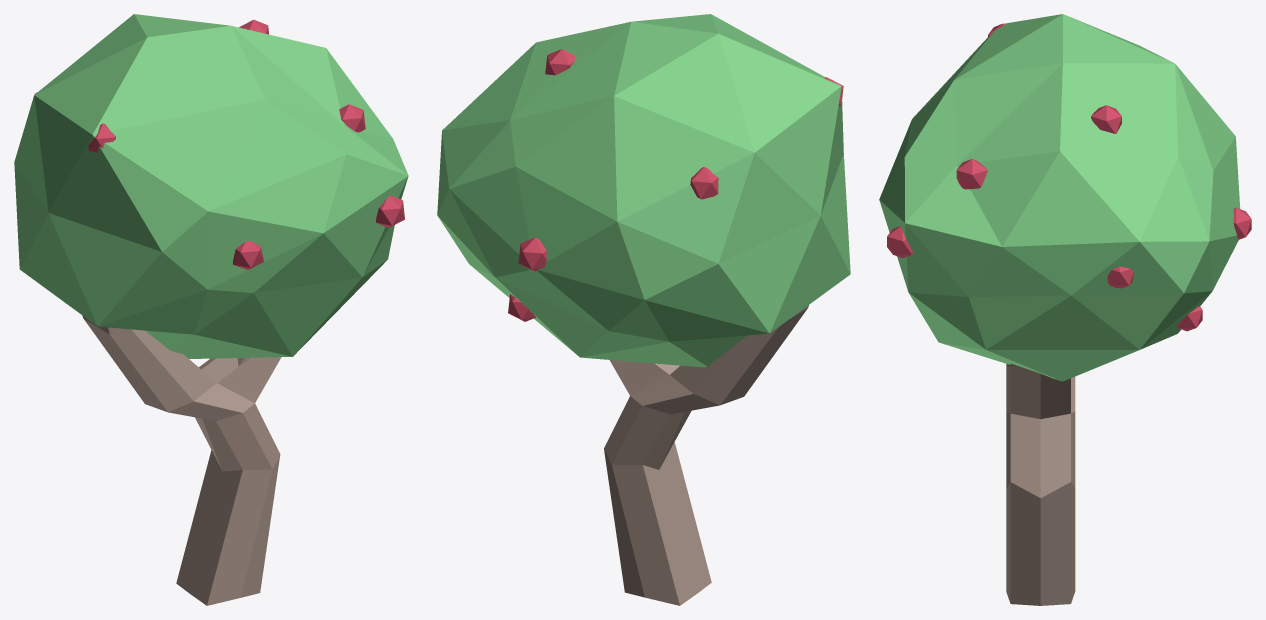
File: Fruits.fbx
The picture shows the model from 3 angles, left to right: view 1: azimuth 30°, elevation 25°; view 2: azimuth 150°, elevation 25°; view 3: azimuth 270°, elevation 25°; orthographic projection. The views are drawn at different scales.
Visible parts, largest first — view 1: Icosphere, Cube, Fruits; view 2: Icosphere, Cube, Fruits; view 3: Icosphere, Cube, Fruits.
Boxes of the visible parts, x1=… form: Icosphere: x1=14, y1=14, x2=408, y2=358; Cube: x1=82, y1=315, x2=281, y2=605; Fruits: x1=34, y1=19, x2=404, y2=269; Icosphere: x1=437, y1=14, x2=850, y2=367; Cube: x1=604, y1=305, x2=808, y2=605; Fruits: x1=508, y1=49, x2=843, y2=321; Icosphere: x1=879, y1=14, x2=1240, y2=381; Cube: x1=1006, y1=363, x2=1075, y2=605; Fruits: x1=887, y1=23, x2=1251, y2=331.
Size of the model in its own units: 89.91 by 146 by 89.83.
